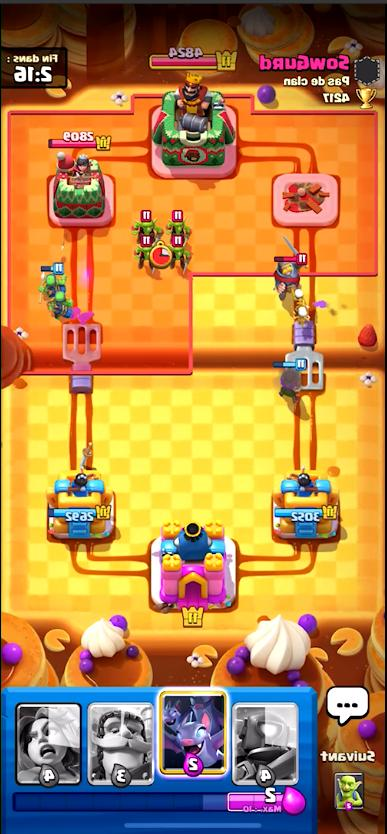chevalier: (272, 241, 310, 294)
gobelin: (132, 211, 162, 237), (172, 235, 192, 265), (167, 211, 191, 235), (134, 241, 150, 266)
gobelin_lances: (35, 265, 66, 294), (51, 288, 72, 319)
mousquetaire: (274, 359, 307, 395)
squelette: (292, 305, 310, 328), (290, 286, 309, 305)
